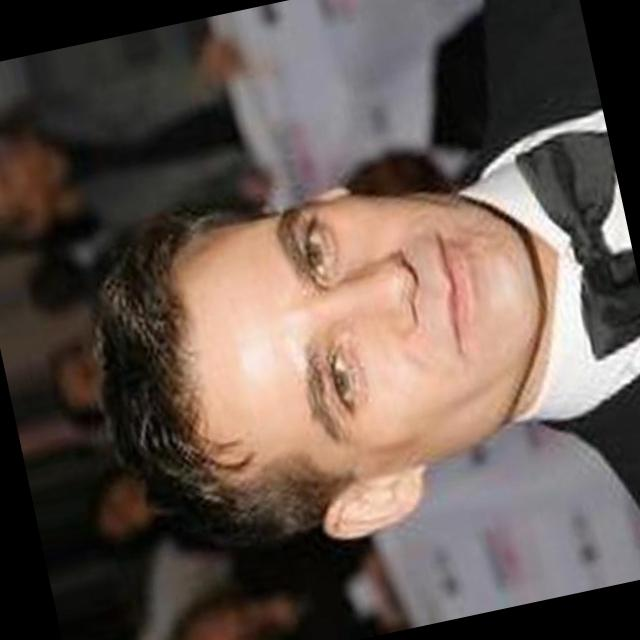bareface: (66, 125, 570, 588)
